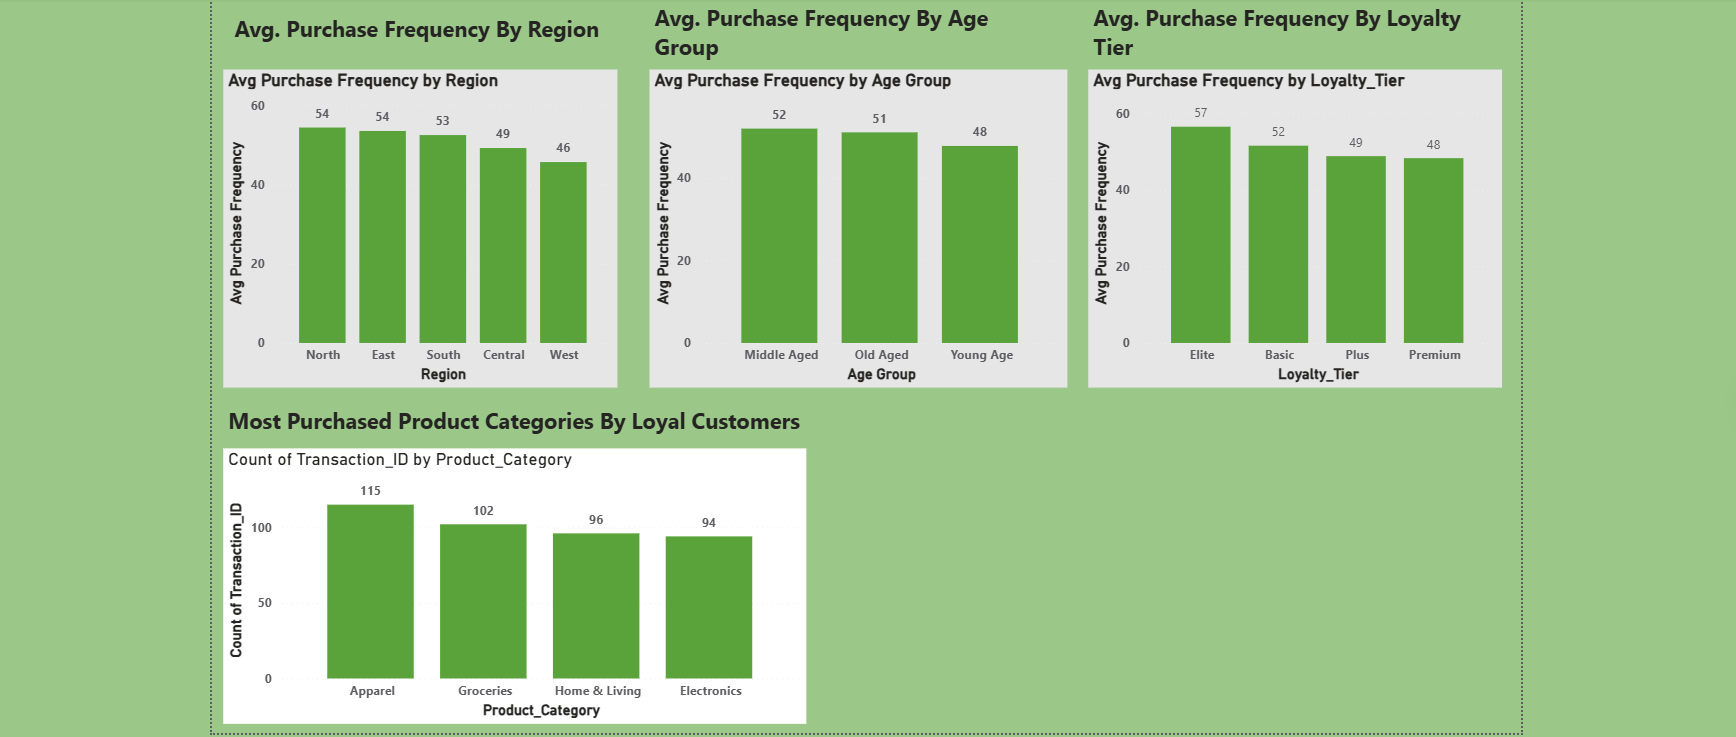

This screenshot's page, from the dashboard's own definition file:
{"tool":"powerbi","page":{"name":"Task 3","canvas":[1280,720],"ordinal":1},"visuals":[{"type":"clusteredColumnChart","fields":{"Category":["Customer_Demographics.Region"],"Y":["measures .Avg Purchase Frequency"]},"box":[11.5,70.5,385.9,311.5],"z":0},{"type":"clusteredColumnChart","fields":{"Category":["Customer_Demographics.Age Group"],"Y":["measures .Avg Purchase Frequency"]},"box":[428.2,70.5,409,311.5],"z":1000},{"type":"clusteredColumnChart","fields":{"Category":["Loyalty_Program.Loyalty_Tier"],"Y":["measures .Avg Purchase Frequency"]},"box":[857.7,70.5,405.1,311.5],"z":2000},{"type":"textbox","box":[11.5,11.5,373.1,46.2],"z":3000},{"type":"textbox","box":[428.2,0,397.4,70.5],"z":4000},{"type":"textbox","box":[857.7,0,373.1,70.5],"z":5000},{"type":"clusteredColumnChart","fields":{"Category":["Customer_Transactions.Product_Category"],"Y":["Count(Customer_Transactions.Transaction_ID)"]},"box":[11.5,441,570.5,269.2],"z":6000},{"type":"textbox","box":[11.5,394.9,570.5,46.2],"z":7000}]}

Visuals, with their boxes on the page's 1280x720 design canvas (x1, y1, x2, y2). These are canvas units, not pixel positions in the 1736x737 screenshot, which may show the page scaled, cropped or inside an application window:
clusteredColumnChart - Customer_Demographics.Region x measures .Avg Purchase Frequency: (12, 70, 397, 382)
clusteredColumnChart - Customer_Demographics.Age Group x measures .Avg Purchase Frequency: (428, 70, 837, 382)
clusteredColumnChart - Loyalty_Program.Loyalty_Tier x measures .Avg Purchase Frequency: (858, 70, 1263, 382)
textbox: (12, 12, 385, 58)
textbox: (428, 0, 826, 70)
textbox: (858, 0, 1231, 70)
clusteredColumnChart - Customer_Transactions.Product_Category x Count(Customer_Transactions.Transaction_ID): (12, 441, 582, 710)
textbox: (12, 395, 582, 441)
